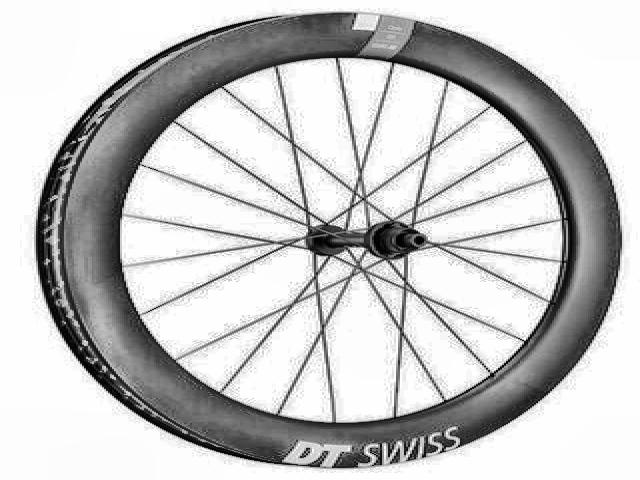wheel: (27, 6, 638, 470)
